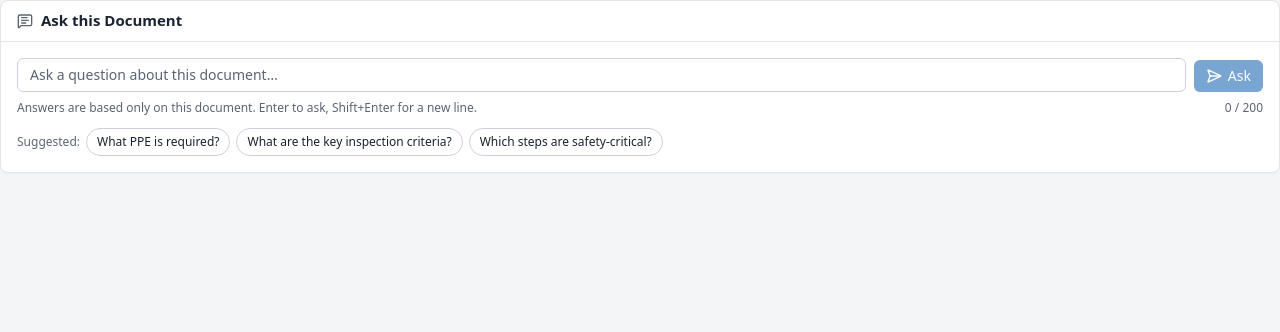
Test case: AskPanel › shows an unanswerable question as 'Not found in this document'
Type "What is the torque for the spindle nose bolts?" into the text box labelled "question about this document" at (601, 74), box [17,58,1186,92]
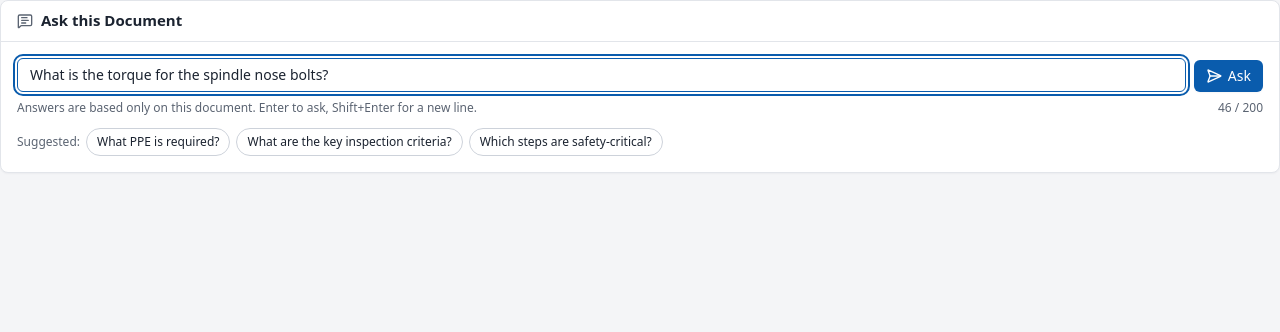
Click the button "Ask" at (1228, 76), box [1194,60,1263,92]
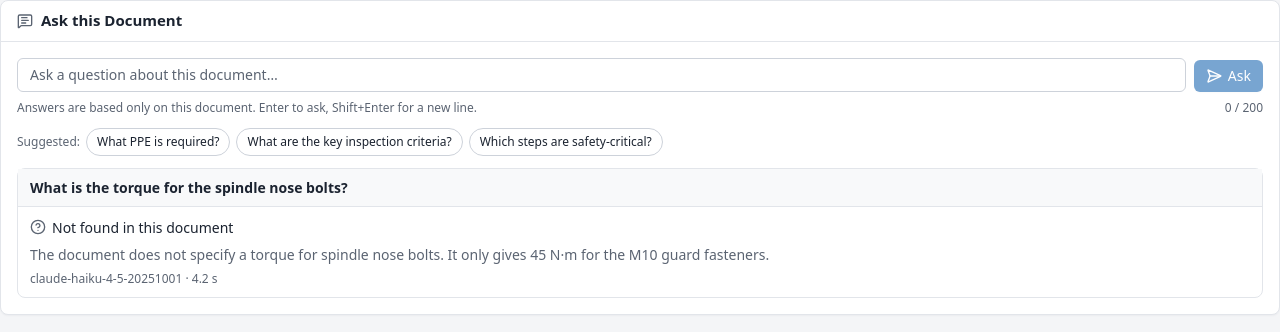
Now the text "Not found in this document" is shown, box [30,218,233,236]
Now the text "The document does not specify a torque for spindle nose bolts. It only gives 45 N·m for the M10 guard fasteners." is shown, box [30,244,769,264]
